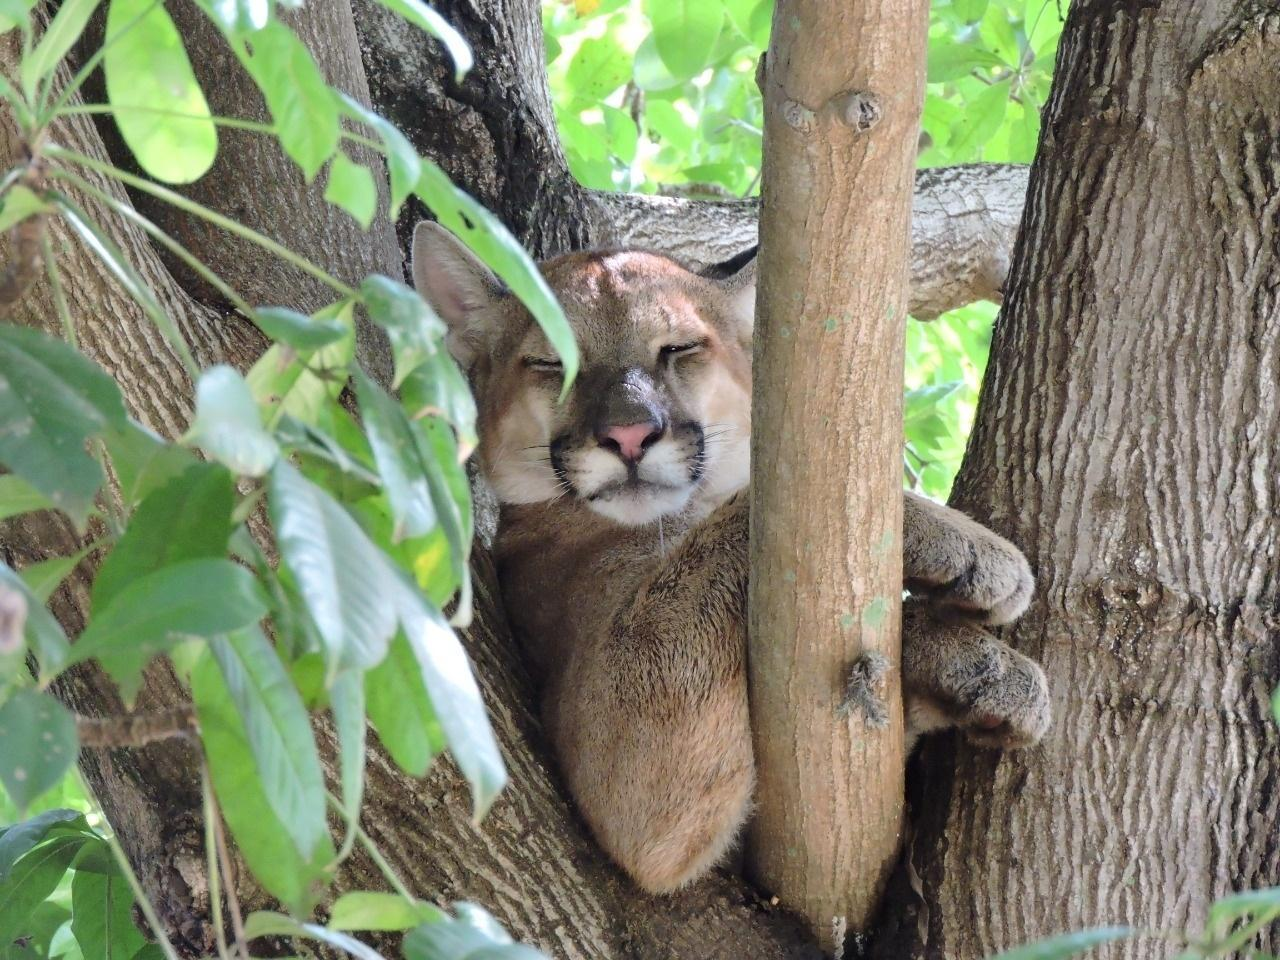OncaParda: (407, 209, 1073, 883)
